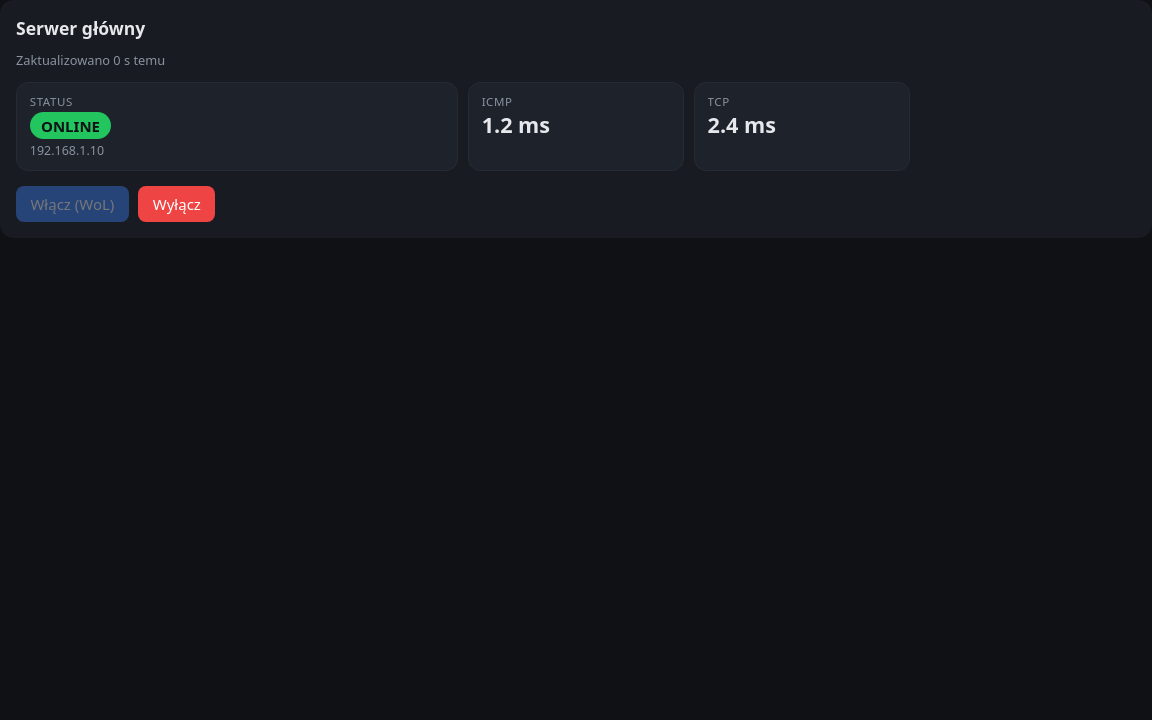
Scenario: StatusCard: wyłączanie przez ConfirmDialog › potwierdzenie wysyła hasło, zamyka okno i pokazuje komunikat
Expected: the text "ONLINE" is shown, 30,112 -> 111,139
Click the button "Wyłącz" at (177, 204), box 138,186 -> 215,222
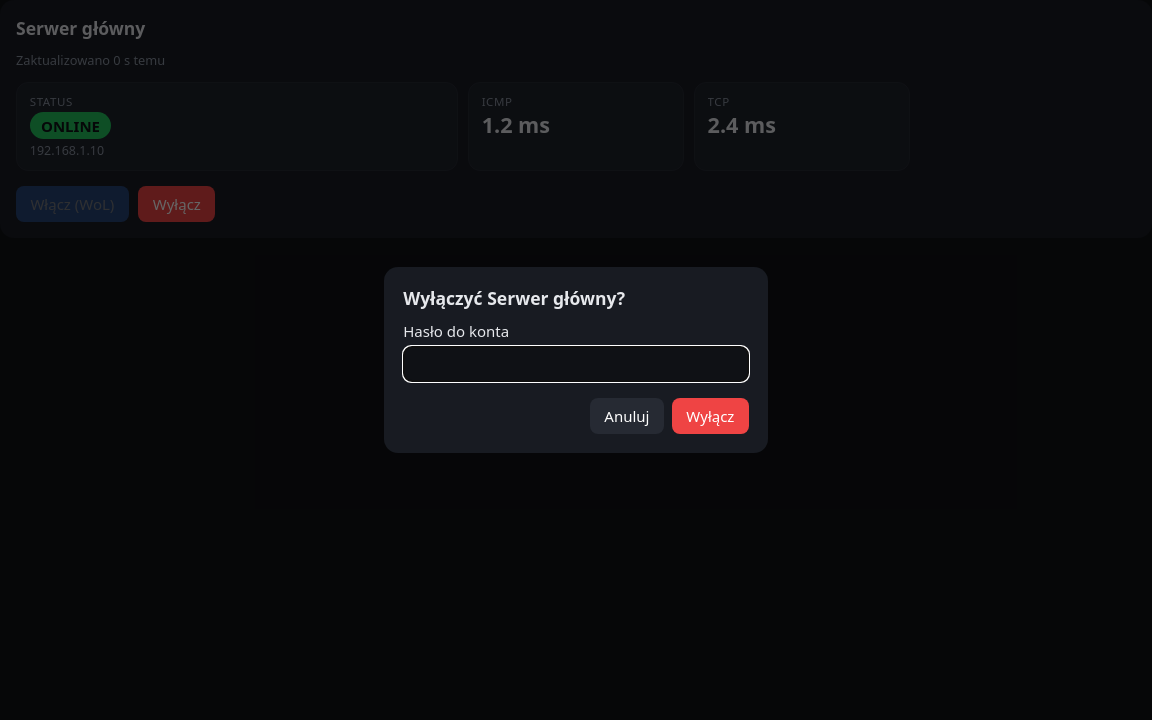
Type "tajne" into the password field labelled "Hasło do konta" at (576, 364), box 403,346 -> 749,382
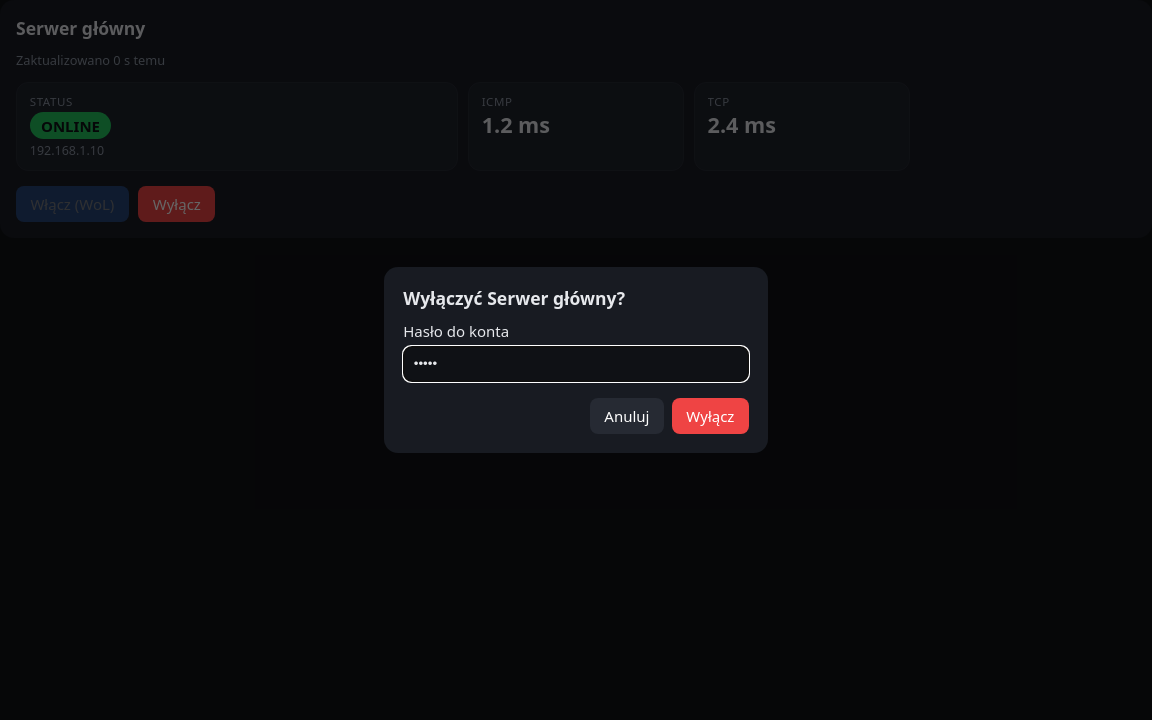
Click the button "Wyłącz" at (710, 416), box 672,398 -> 749,434
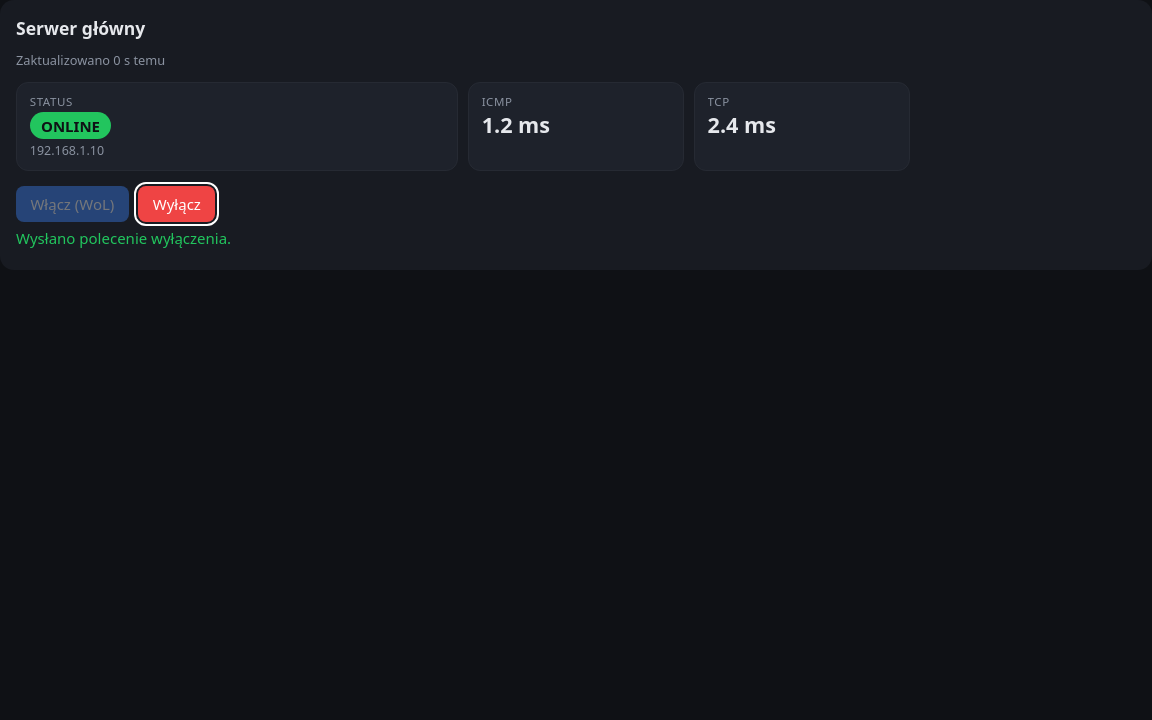
Expected: the text "Wysłano polecenie wyłączenia." is shown, 16,228 -> 231,248
Expected: the dialog is gone
